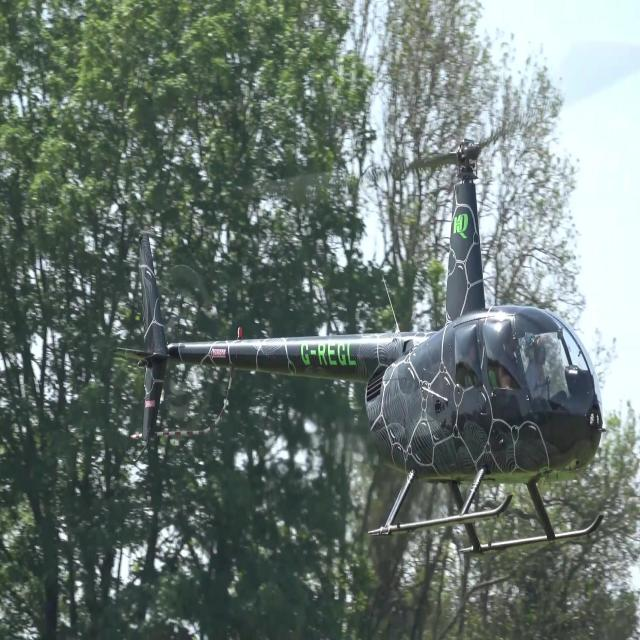CIV_HELO: (119, 135, 606, 554)
